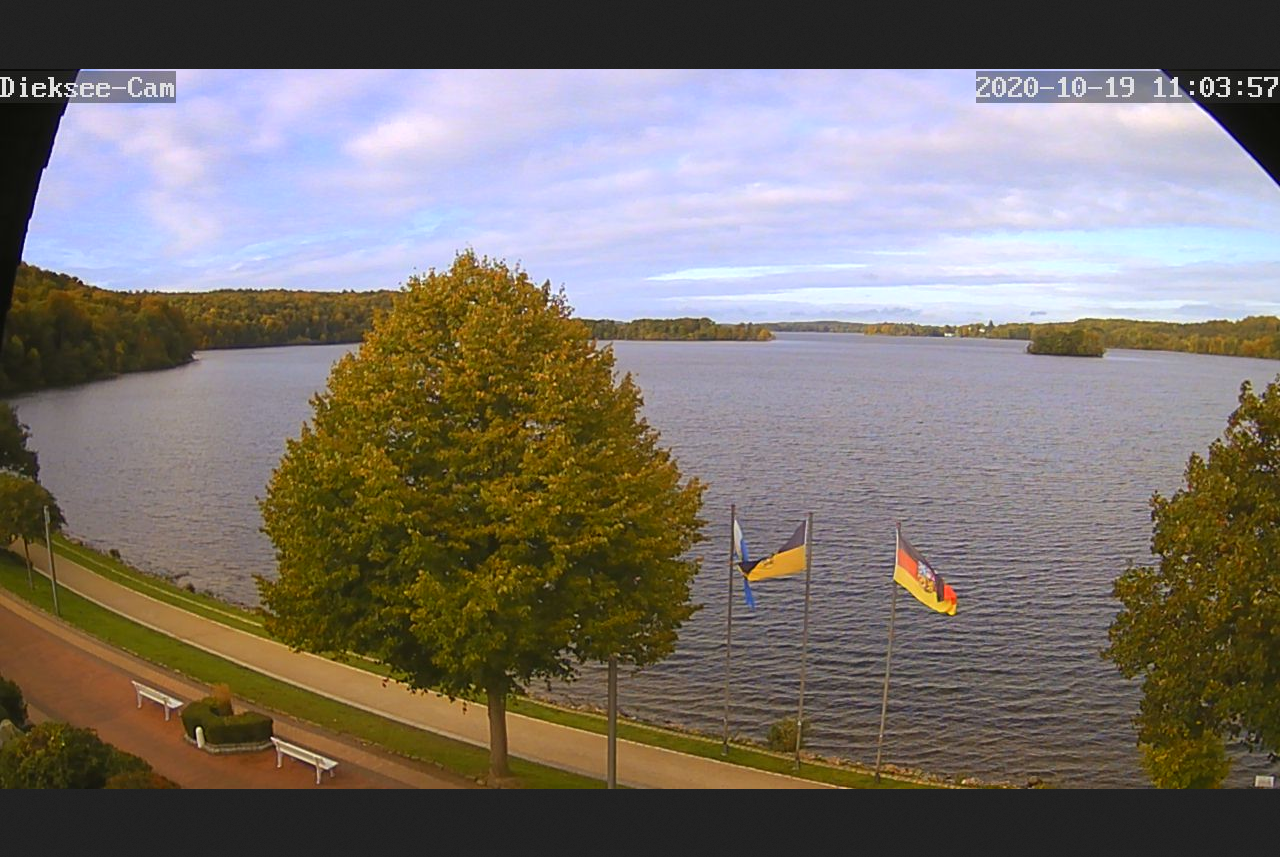maybe: (888, 520, 965, 625), (731, 508, 821, 578)
no: (725, 506, 763, 618)
